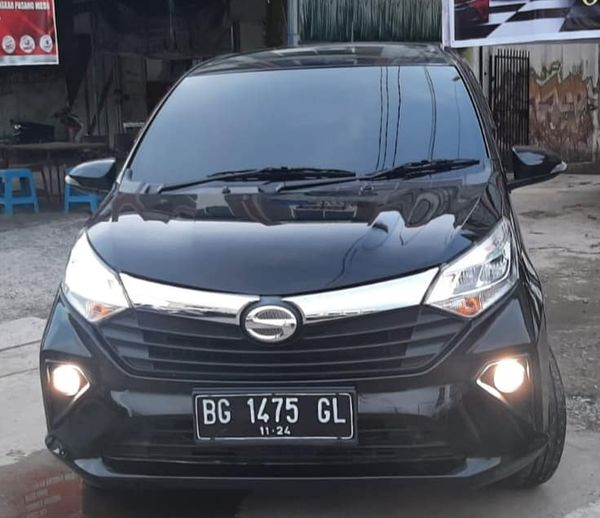plate: (191, 385, 360, 445)
